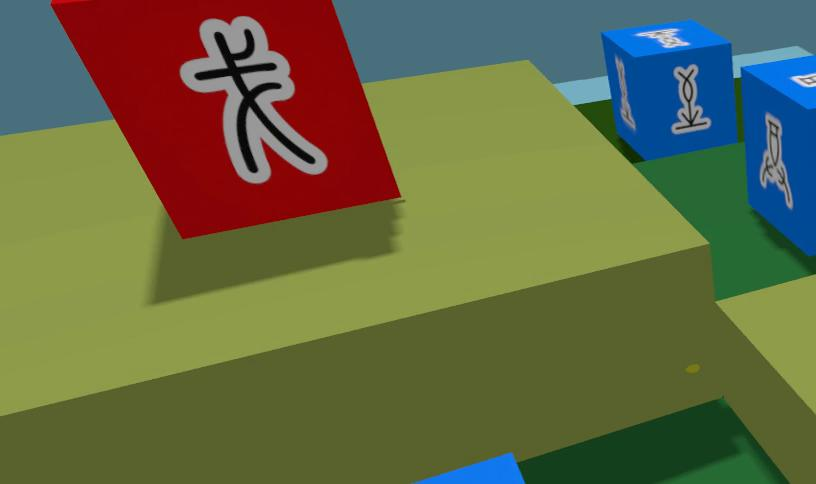KFS_FAKE: (52, 0, 399, 237), (180, 16, 327, 183), (181, 16, 327, 183)
KFS_REAL: (602, 20, 735, 158), (741, 55, 816, 254), (409, 455, 525, 484), (759, 114, 793, 209), (759, 113, 792, 209), (671, 64, 711, 133), (672, 66, 711, 133), (614, 57, 635, 129), (636, 28, 689, 47), (790, 72, 815, 87)
